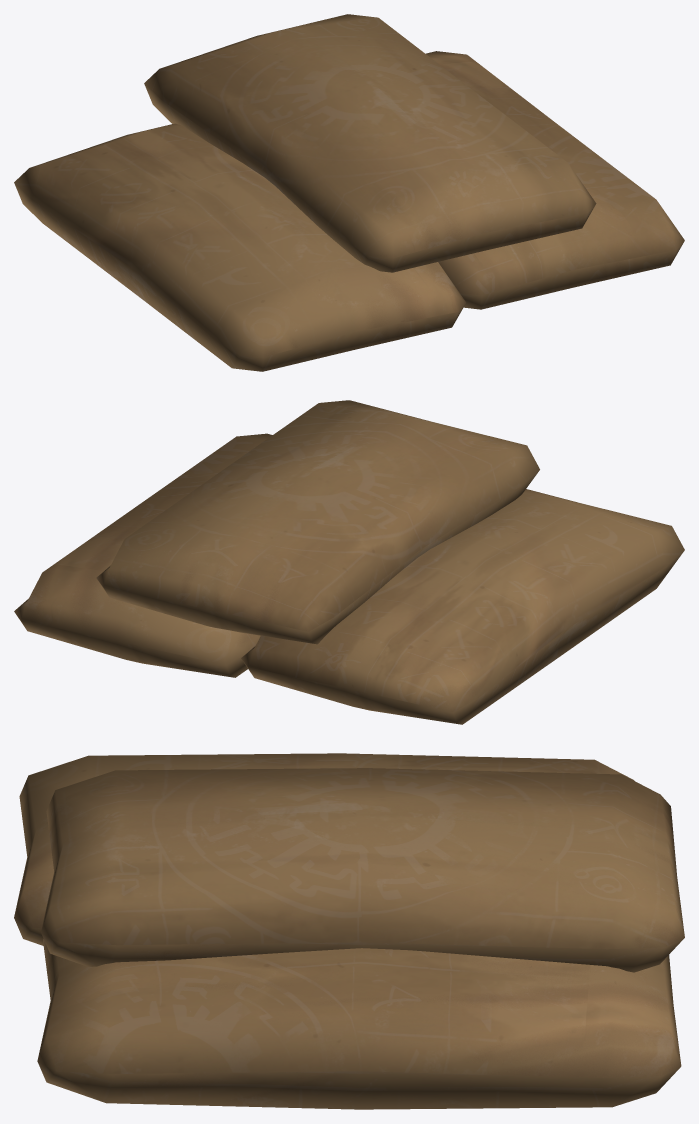
The model's file is prop_Sack_A.fbx.
The picture shows the model from 3 angles, top to bottom: view 1: azimuth 30°, elevation 25°; view 2: azimuth 150°, elevation 25°; view 3: azimuth 270°, elevation 25°; orthographic projection. The views are drawn at different scales.
Parts seen in each view (by area): view 1: prop_Sack_A; view 2: prop_Sack_A; view 3: prop_Sack_A.
Boxes of the visible parts, x1,y1,x2,y2 form: prop_Sack_A: (14, 14, 684, 371); prop_Sack_A: (14, 400, 684, 724); prop_Sack_A: (14, 753, 684, 1109).
Size of the model in its own units: 133 by 45.96 by 128.
